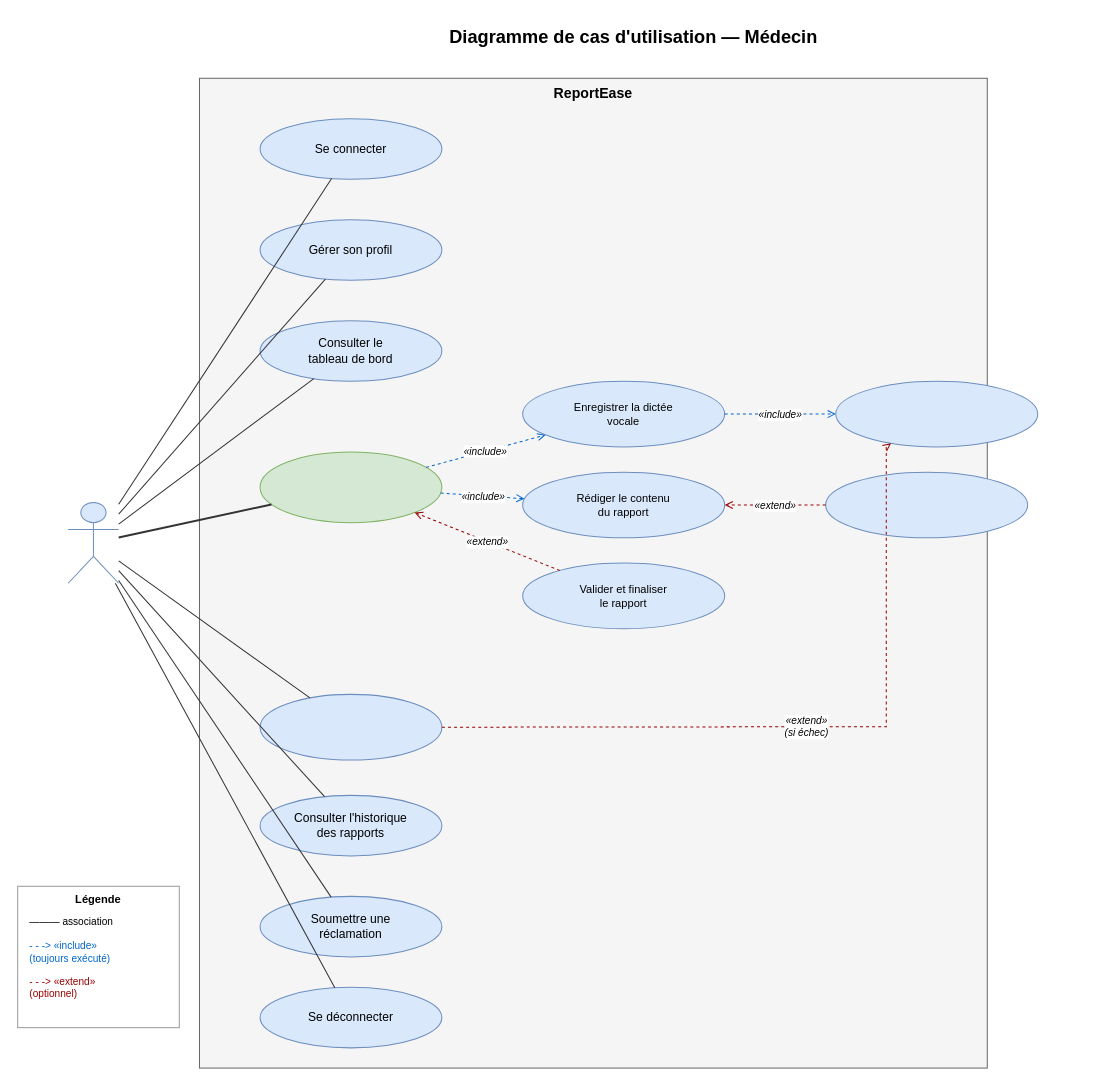
Image size: 1106x1086. Some labels were removed from this diagram. The centre of each missing label's shape, as x and y in pixels:
"Bénéficier des suggestions de correction" belongs at (926,504).
"Créer un rapport" belongs at (350,487).
"Médecin" belongs at (93,542).
"Obtenir la transcription automatique" belongs at (936,413).
"Reprendre un audio non transcrit" belongs at (350,726).
